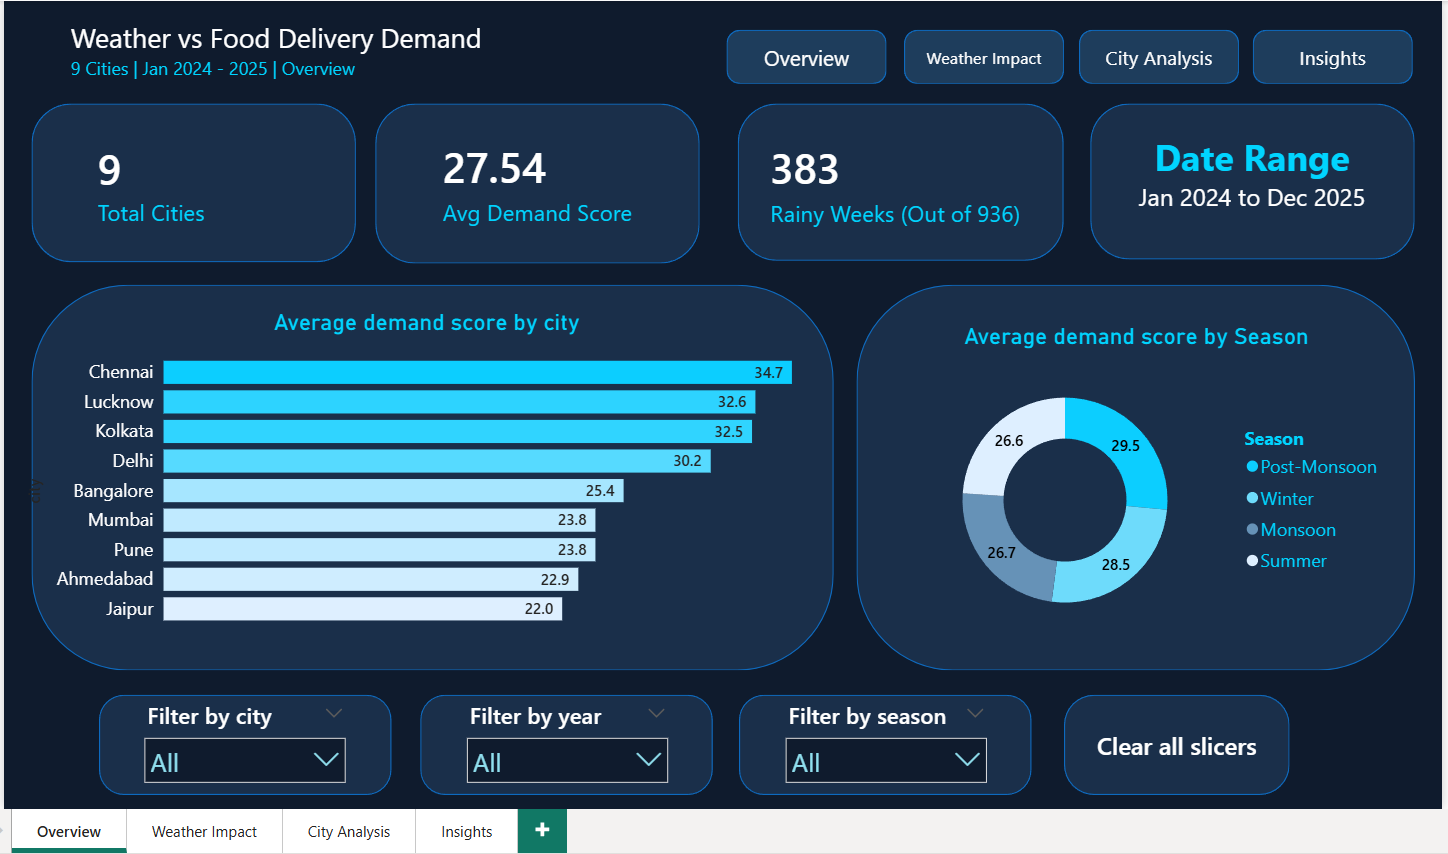

This screenshot's page, from the dashboard's own definition file:
{"tool":"powerbi","page":{"name":"Overview","canvas":[1280,720],"ordinal":0},"visuals":[{"type":"shape","box":[24.8,91.8,289,141.4],"z":0},{"type":"shape","box":[331.2,91.8,289,142.6],"z":1000},{"type":"shape","box":[653.6,91.8,290.2,140.2],"z":2000},{"type":"shape","box":[967.4,91.8,289,138.9],"z":3000},{"type":"cardVisual","fields":{"Data":["Count(weather_demand_final.city)"]},"box":[54.6,109.1,229.5,106.7],"z":4000},{"type":"cardVisual","fields":{"Data":["weather_demand_final.Rainy Weeks"]},"box":[653.6,104.2,290.2,115.3],"z":5000},{"type":"cardVisual","fields":{"Data":["Avg(weather_demand_final.demand_score)"]},"box":[362.2,101.7,229.5,120.3],"z":6000},{"type":"textbox","box":[992.2,112.9,239.4,91.8],"z":7000},{"type":"shape","box":[24.8,253,714.4,343.6],"z":8000},{"type":"barChart","title":"Average demand score by city","fields":{"Category":["weather_demand_final.city"],"Y":["weather_demand_final.Average demand score by city"]},"box":[14.9,274.1,724.3,294],"z":9000},{"type":"shape","box":[759.1,253,497.4,343.6],"z":10000},{"type":"donutChart","title":"Average demand score by Season","fields":{"Y":["weather_demand_final.Average demand score by city"],"Category":["weather_demand_final.season"]},"box":[780.2,286.5,456.4,294],"z":11000},{"type":"shape","box":[84.3,617.7,260.5,89.3],"z":12000},{"type":"slicer","fields":{"Values":["weather_demand_final.city"]},"box":[114.1,617.7,199.7,99.2],"z":13000},{"type":"shape","box":[370.9,617.7,260.5,89.3],"z":14000},{"type":"slicer","fields":{"Values":["weather_demand_final.year"]},"box":[401.9,617.7,199.7,99.2],"z":15000},{"type":"shape","box":[654.9,617.7,260.5,89.3],"z":16000},{"type":"slicer","fields":{"Values":["weather_demand_final.season"]},"box":[685.9,617.7,199.7,99.2],"z":17000},{"type":"textbox","box":[54.6,11.2,405.6,70.7],"z":18000},{"type":"actionButton","title":"Over","box":[643.7,26,142.6,48.4],"z":19000},{"type":"actionButton","title":"Over","box":[801.2,26,142.6,48.4],"z":20000},{"type":"actionButton","title":"Over","box":[957.5,26,142.6,48.4],"z":21000},{"type":"actionButton","title":"Over","box":[1112.6,26,142.6,48.4],"z":23000},{"type":"actionButton","box":[943.9,617.7,200.9,89.3],"z":24000}]}

Visuals, with their boxes on the page's 1280x720 design canvas (x1, y1, x2, y2). These are canvas units, not pixel positions in the 1448x854 screenshot, which may show the page scaled, cropped or inside an application window:
shape: 25, 92, 314, 233
shape: 331, 92, 620, 234
shape: 654, 92, 944, 232
shape: 967, 92, 1256, 231
cardVisual - Count(weather_demand_final.city): 55, 109, 284, 216
cardVisual - weather_demand_final.Rainy Weeks: 654, 104, 944, 220
cardVisual - Avg(weather_demand_final.demand_score): 362, 102, 592, 222
textbox: 992, 113, 1232, 205
shape: 25, 253, 739, 597
"Average demand score by city" barChart: 15, 274, 739, 568
shape: 759, 253, 1256, 597
"Average demand score by Season" donutChart: 780, 286, 1237, 580
shape: 84, 618, 345, 707
slicer - weather_demand_final.city: 114, 618, 314, 717
shape: 371, 618, 631, 707
slicer - weather_demand_final.year: 402, 618, 602, 717
shape: 655, 618, 915, 707
slicer - weather_demand_final.season: 686, 618, 886, 717
textbox: 55, 11, 460, 82
"Over" actionButton: 644, 26, 786, 74
"Over" actionButton: 801, 26, 944, 74
"Over" actionButton: 958, 26, 1100, 74
"Over" actionButton: 1113, 26, 1255, 74
actionButton: 944, 618, 1145, 707
